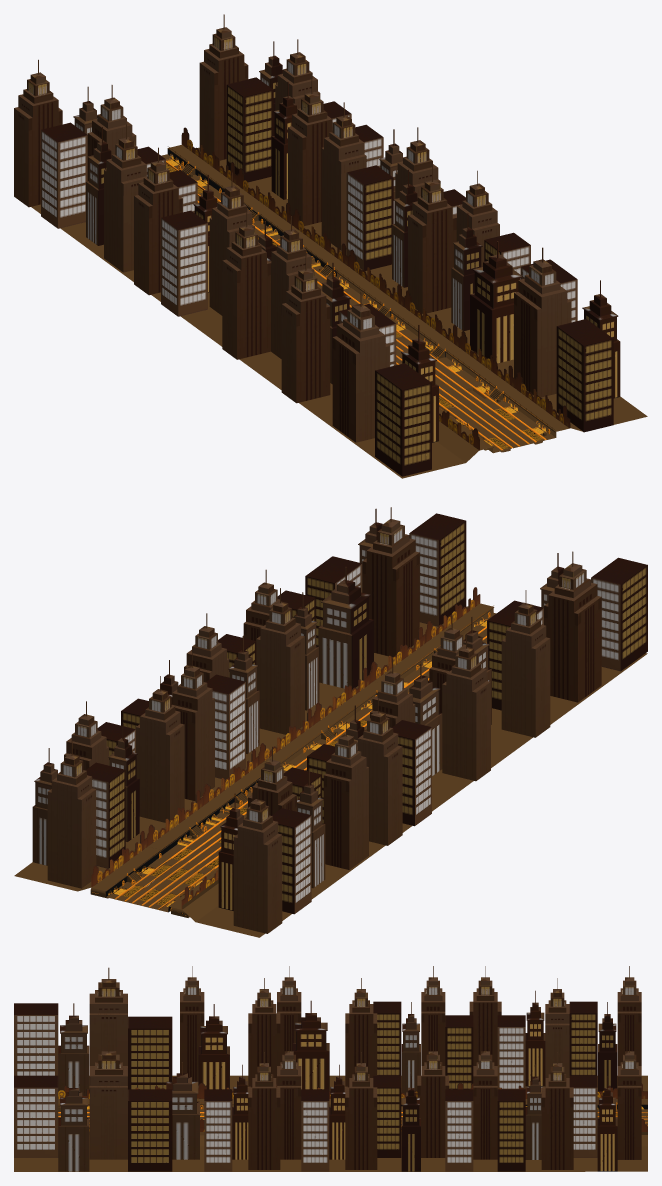
Rendered from environment.glb.
3 views of the same model, one above another, from view 1: azimuth 30°, elevation 25°; view 2: azimuth 150°, elevation 25°; view 3: azimuth 270°, elevation 25° (orthographic). The views are drawn at different scales.
Parts seen in each view (by area): view 1: Vault City _Tower building_0, Vault City _Bulding _0, Vault City _ground _0, Vault City _Small Tower_0, Vault City _Metals side wall_0, Vault City _steps and Metals _0, Vault City _Grill Alpha_0, Vault City _Coins_0; view 2: Vault City _Tower building_0, Vault City _Bulding _0, Vault City _ground _0, Vault City _Small Tower_0, Vault City _Metals side wall_0, Vault City _starting ground_0, Vault City _Track Coin_0, Vault City _Grill Alpha_0, Vault City _steps and Metals _0; view 3: Vault City _Tower building_0, Vault City _Bulding _0, Vault City _Small Tower_0, Vault City _ground _0, Vault City _Metals side wall_0.
Boxes of the visible parts, <box> form: Vault City _Tower building_0: <box>14,14,571,442</box>; Vault City _Bulding _0: <box>41,77,613,476</box>; Vault City _ground _0: <box>31,144,647,478</box>; Vault City _Small Tower_0: <box>73,41,620,442</box>; Vault City _Metals side wall_0: <box>181,127,570,449</box>; Vault City _steps and Metals _0: <box>178,161,550,436</box>; Vault City _Grill Alpha_0: <box>167,146,555,447</box>; Vault City _Coins_0: <box>167,156,545,445</box>; Vault City _Tower building_0: <box>47,507,601,933</box>; Vault City _Bulding _0: <box>85,513,647,914</box>; Vault City _ground _0: <box>14,603,647,937</box>; Vault City _Small Tower_0: <box>32,508,564,910</box>; Vault City _Metals side wall_0: <box>91,587,480,908</box>; Vault City _starting ground_0: <box>90,851,218,917</box>; Vault City _Track Coin_0: <box>122,720,366,905</box>; Vault City _Grill Alpha_0: <box>106,605,494,906</box>; Vault City _steps and Metals _0: <box>122,612,493,897</box>; Vault City _Tower building_0: <box>89,966,641,1169</box>; Vault City _Bulding _0: <box>14,1001,597,1171</box>; Vault City _Small Tower_0: <box>58,990,617,1171</box>; Vault City _ground _0: <box>14,1075,647,1171</box>; Vault City _Metals side wall_0: <box>58,1083,647,1131</box>.
Bounding box in the file's own units: 74.74 × 40 × 201.
Materials: 10 (10 with a texture image).
